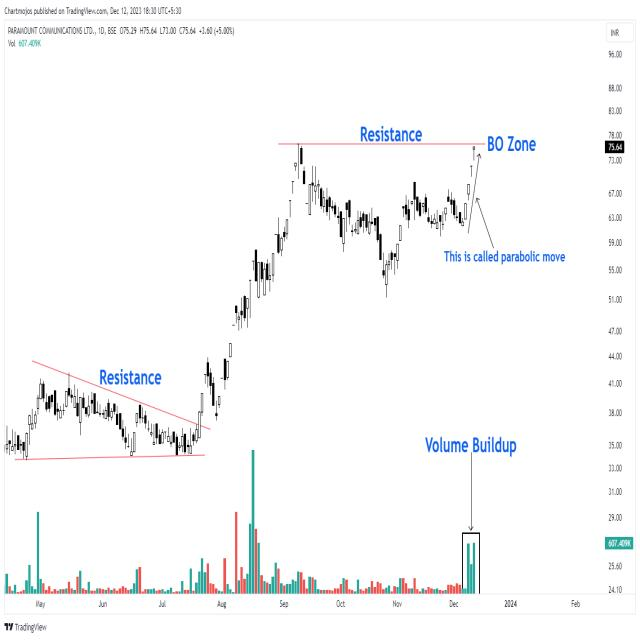Descending-Triangle: (5, 354, 216, 457)
